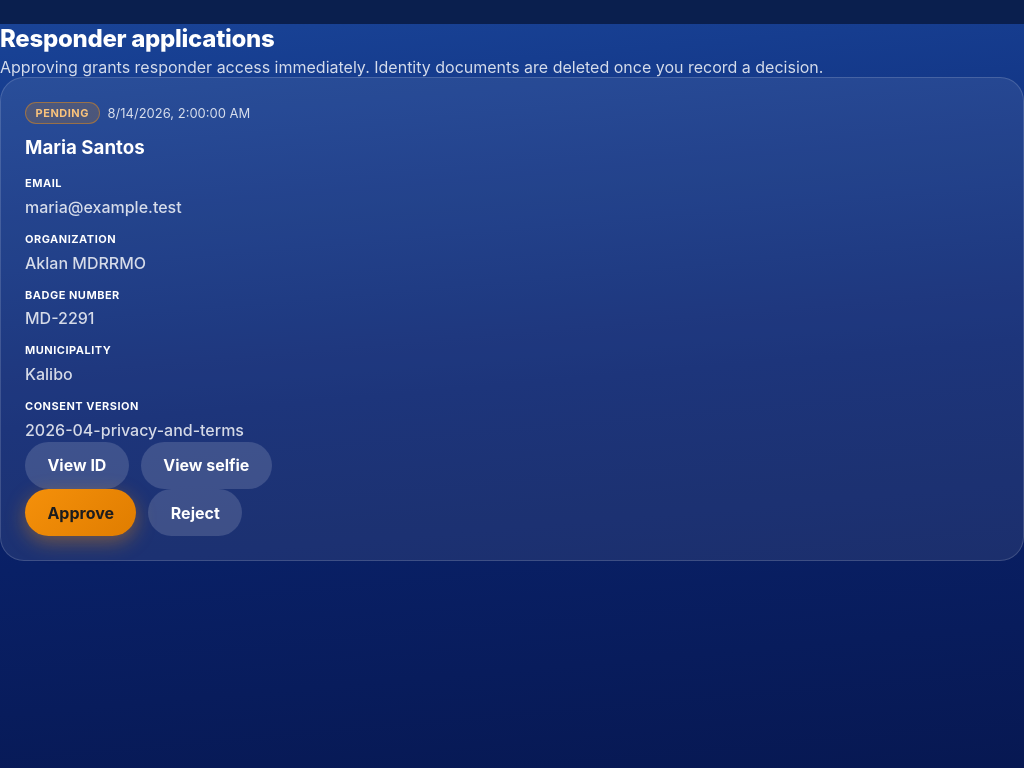
Scenario: REQ-026: reviewer evidence › says when the decision stands but evidence deletion is pending
The image size is (1024, 768).
Click the button "Reject" at (195, 513), box [148,489,242,536]
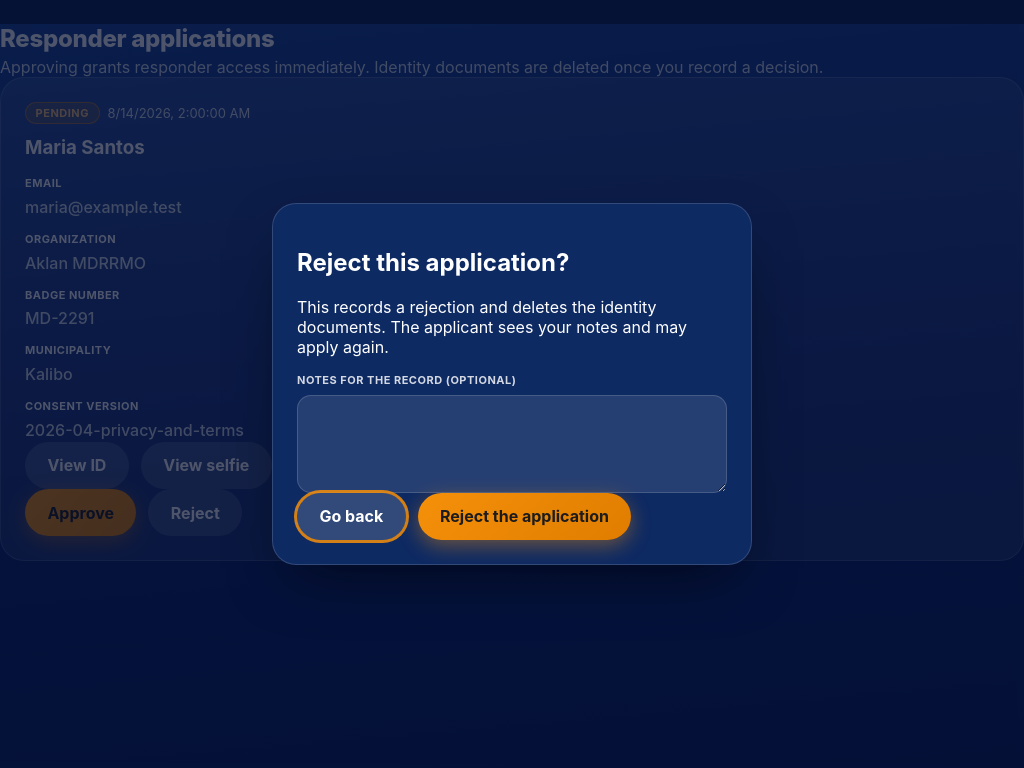
Click the button "Reject the application" at (524, 516), box [418,493,631,540]
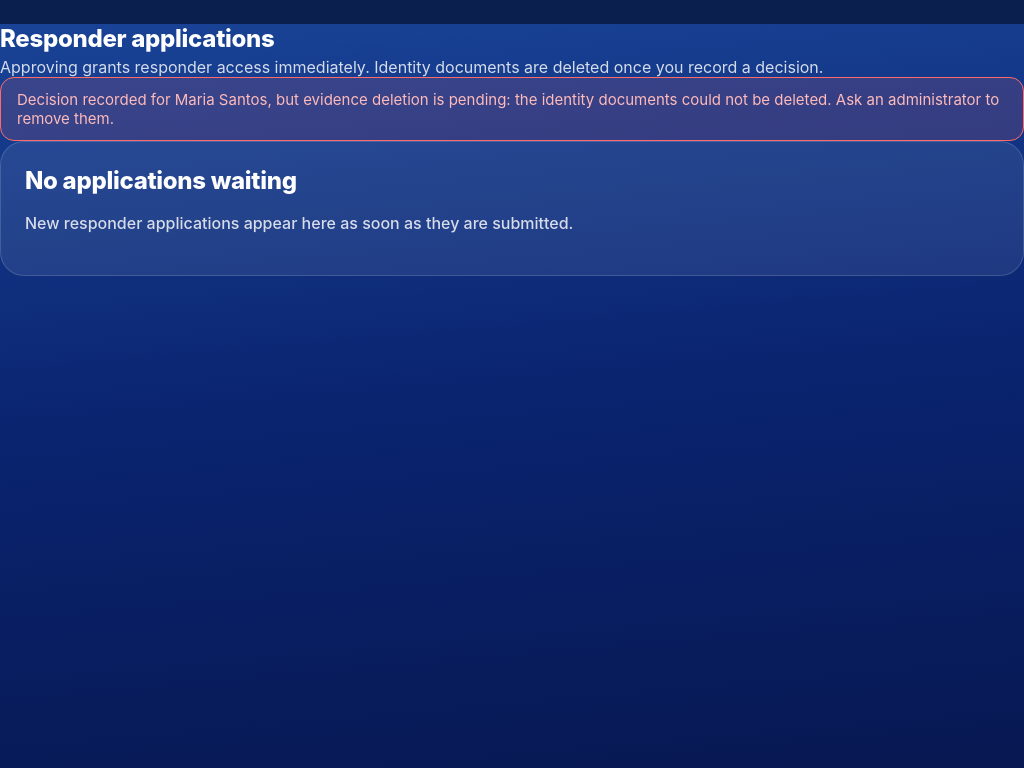
expect the text "evidence deletion is pending" is shown: met, box [17,90,999,128]
